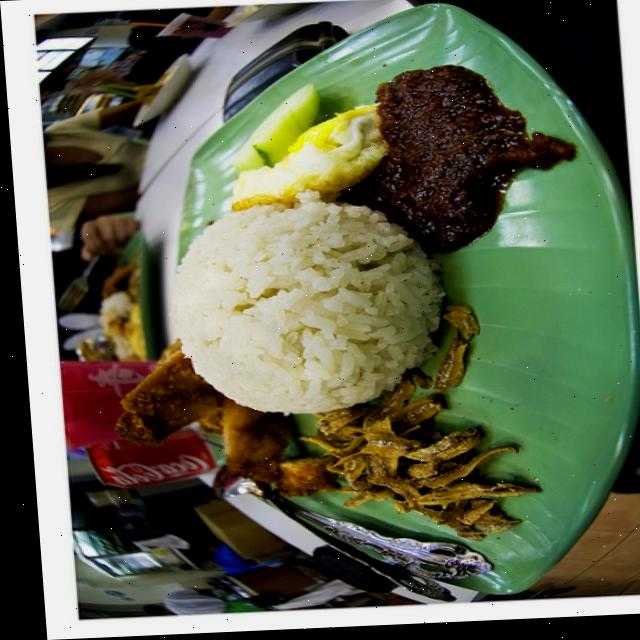米饭主食: (94, 33, 627, 584)
